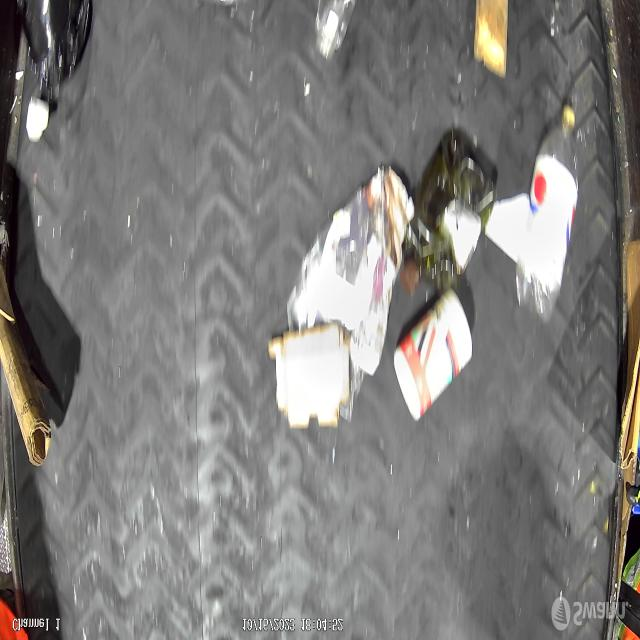plastic_bottle: (516, 100, 581, 327)
